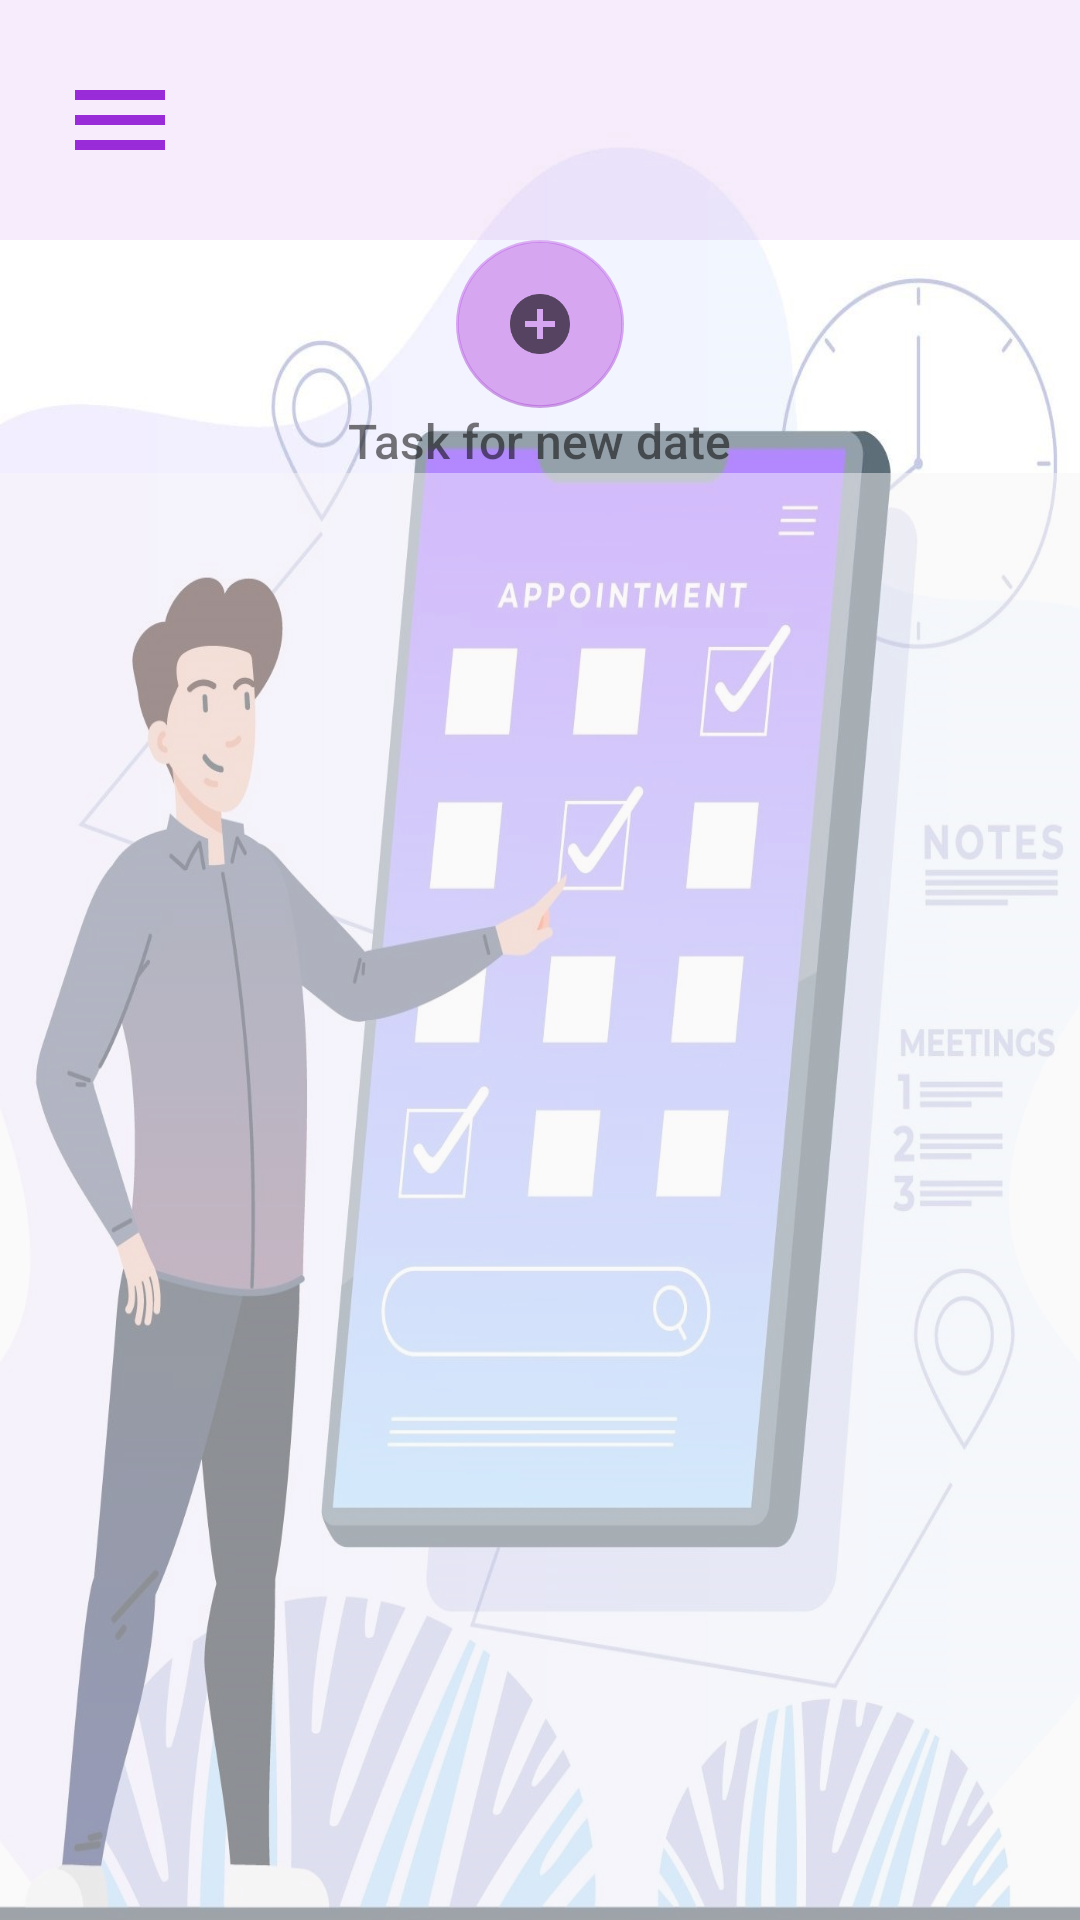

Where icons sit on this 1080w x 1920h app screen, as (x1=x1, y1=y1, x2=x2, y2=y2):
addtask: (x1=456, y1=240, x2=624, y2=408)
nav: (x1=75, y1=90, x2=165, y2=150)
